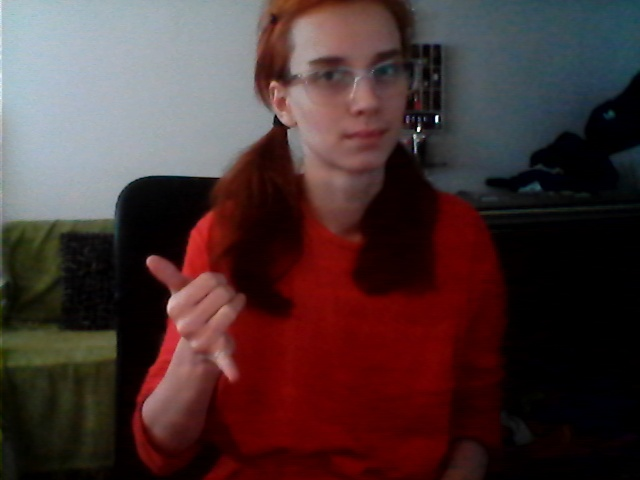ano: (131, 249, 265, 386)
